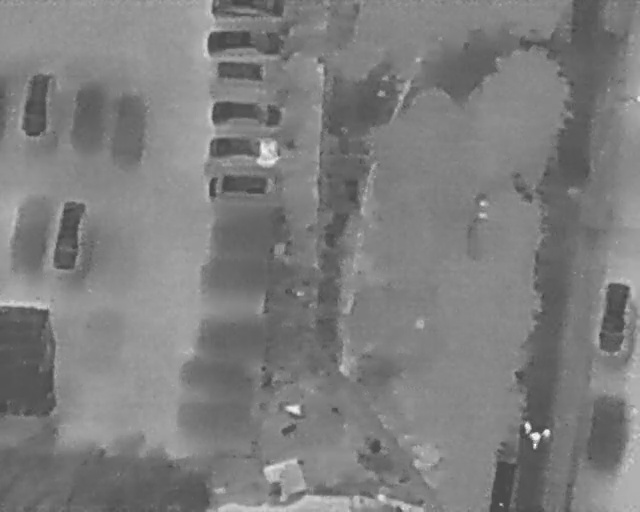Car: (49, 199, 87, 274), (596, 279, 632, 356), (206, 28, 285, 59), (208, 135, 282, 166), (20, 70, 52, 139), (207, 173, 281, 202), (211, 100, 283, 129), (211, 0, 284, 21)
